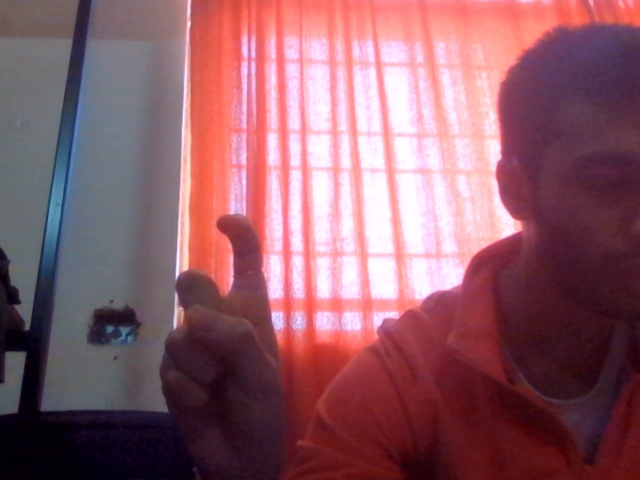X: (119, 186, 327, 480)
